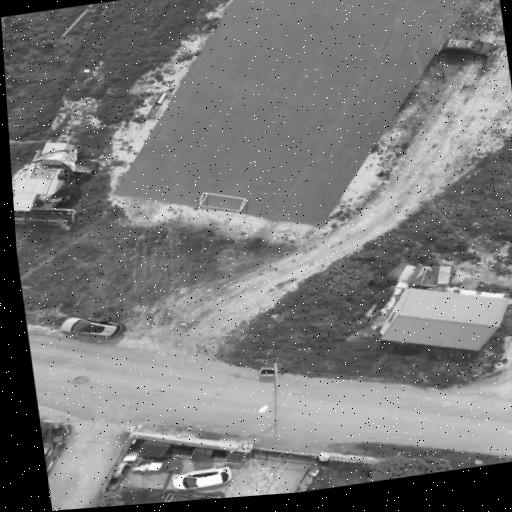car: (172, 467, 232, 490), (61, 317, 123, 337), (438, 39, 494, 57)
harvester: (12, 143, 90, 224)
